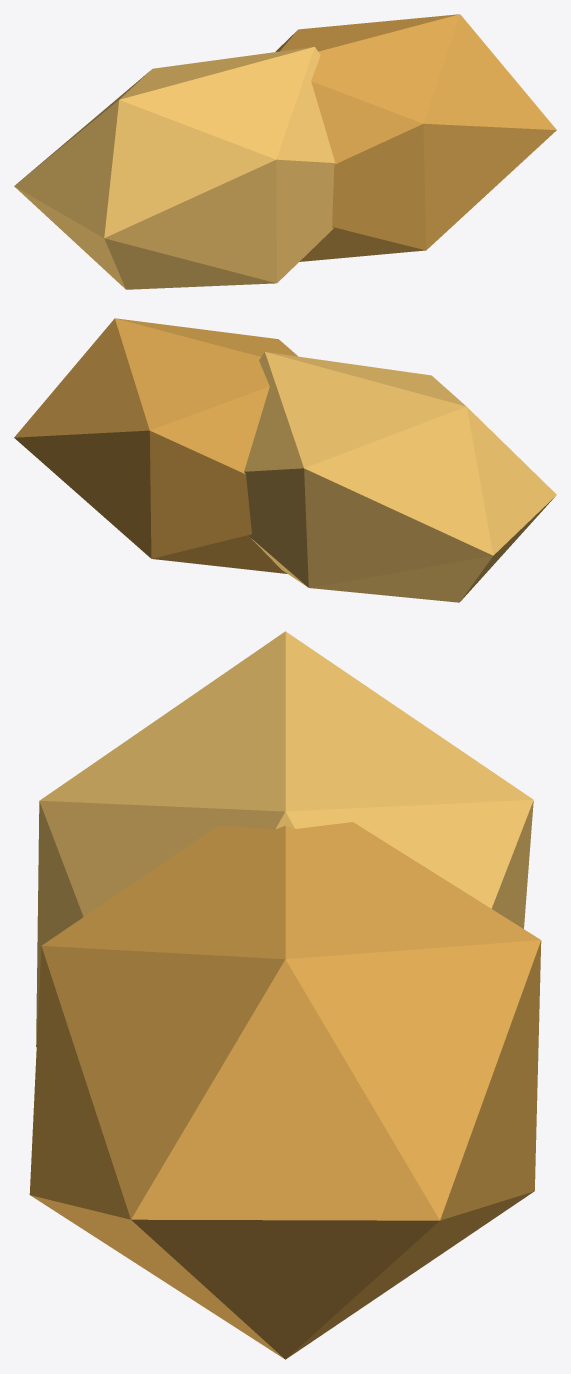
Rendered from bdnf.obj.
3 renders of one model, top to bottom at view 1: azimuth 30°, elevation 25°; view 2: azimuth 150°, elevation 25°; view 3: azimuth 270°, elevation 25°, orthographic. The views are drawn at different scales.
Visible parts, largest first — view 1: part0, part1; view 2: part0, part1; view 3: part1, part0.
Part boxes in pixels (x1,y1,x2,y2): part0: (14,46,335,289); part1: (275,14,556,261); part0: (244,352,556,602); part1: (14,318,297,573); part1: (29,822,541,1359); part0: (36,631,533,1046).
Size of the model in its own units: 1.01 by 0.427 by 0.48.
